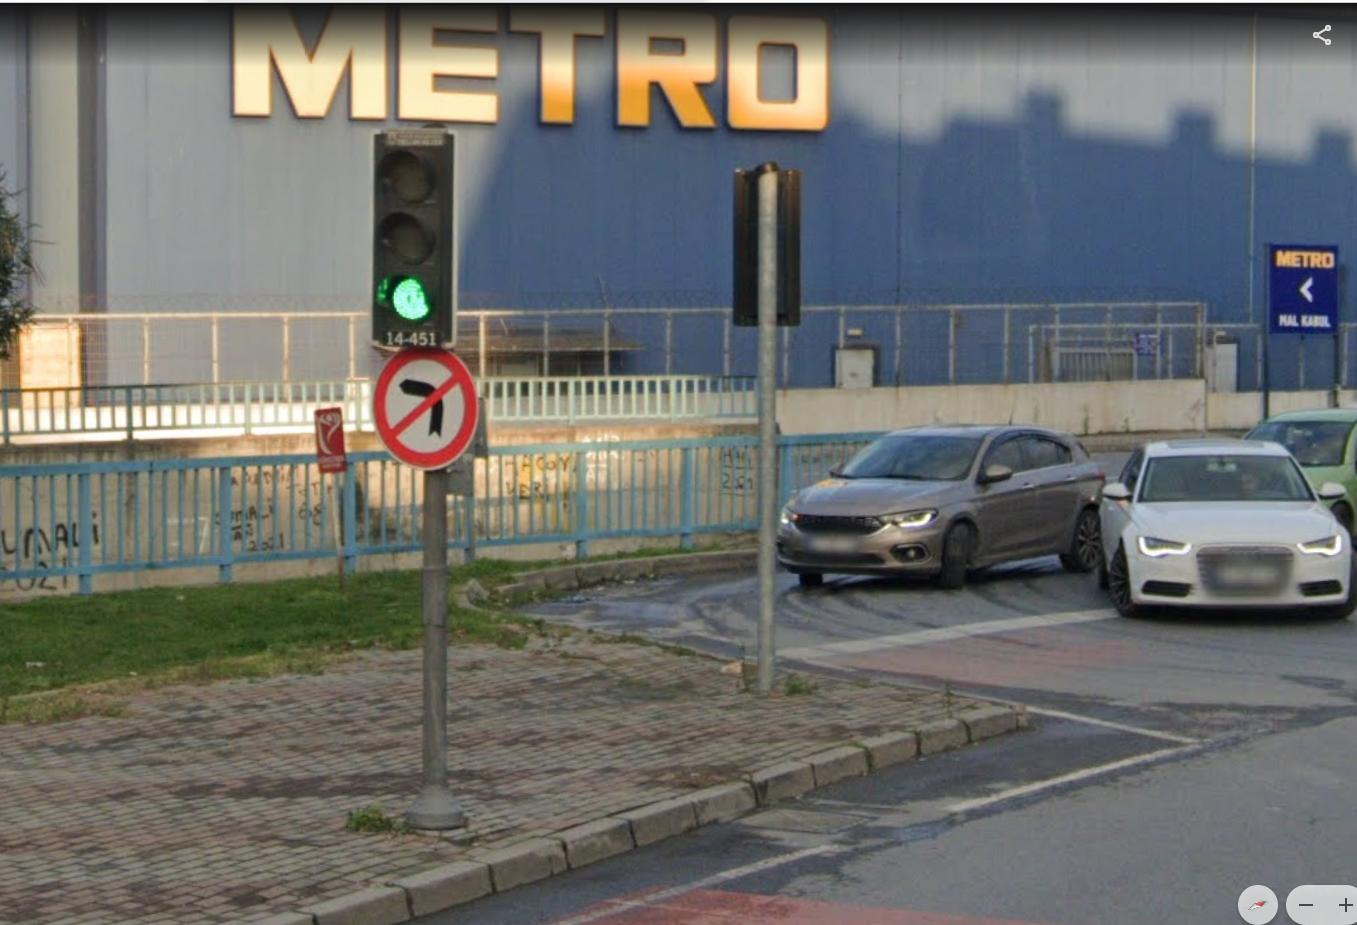greenlight: (376, 131, 448, 328)
leftturnsareforbidden: (376, 343, 483, 473)
